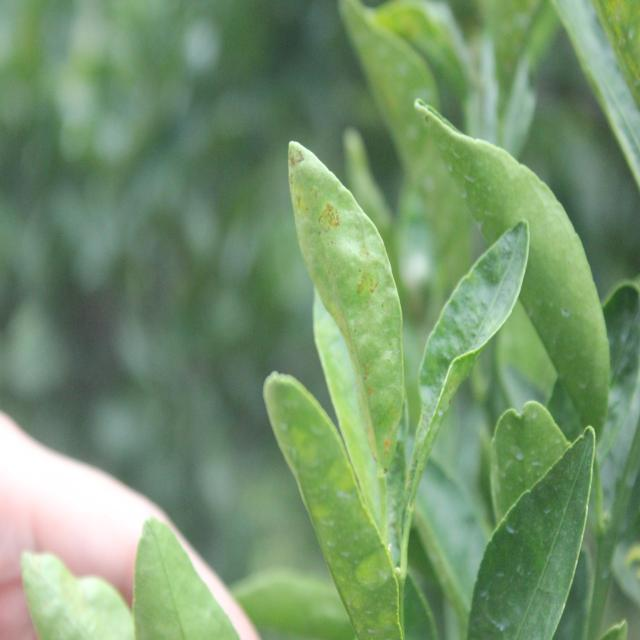canker: (292, 149, 404, 473)
